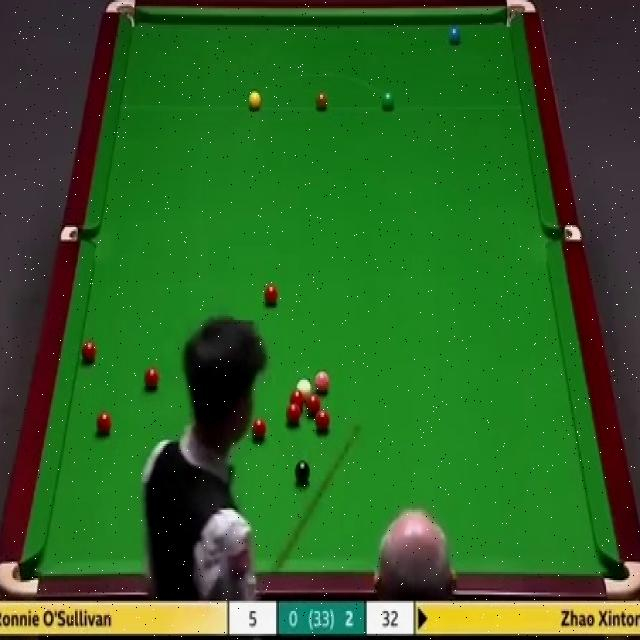black-ball: (295, 462, 310, 484)
blue-ball: (449, 26, 463, 44)
brown-ball: (316, 91, 329, 111)
green-ball: (380, 91, 396, 113)
pink-ball: (314, 369, 330, 394)
red-ball: (144, 363, 159, 394), (251, 416, 267, 444), (81, 338, 97, 364), (314, 407, 330, 432), (263, 284, 279, 308), (96, 411, 111, 436), (290, 388, 305, 412), (308, 391, 324, 413), (286, 404, 301, 426)
white-ball: (295, 378, 312, 394)
yellow-ball: (247, 90, 262, 111)
